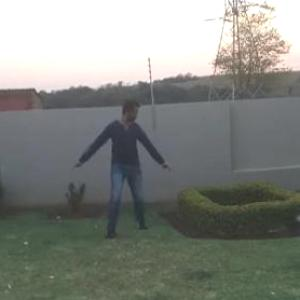land: (54, 89, 182, 271)
